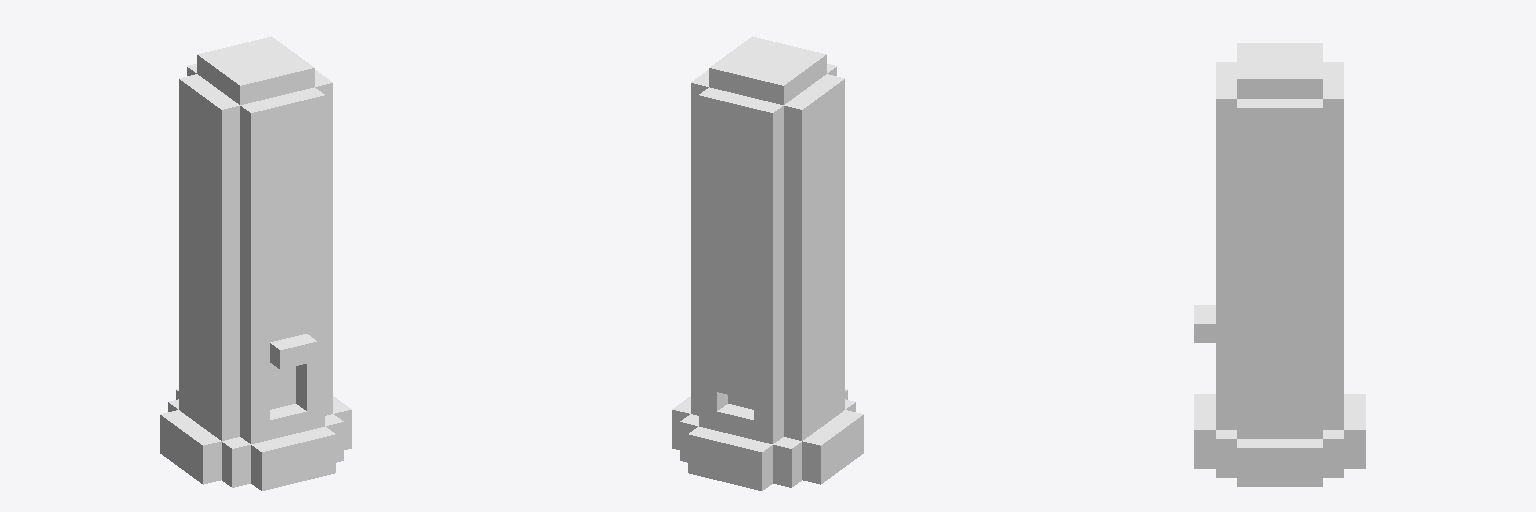
File: Flashlight.obj
3 renders of one model, left to right at view 1: azimuth 30°, elevation 25°; view 2: azimuth 150°, elevation 25°; view 3: azimuth 270°, elevation 25°, orthographic.
Parts seen in each view (by area): view 1: object 1; view 2: object 1; view 3: object 1.
Boxes of the visible parts, x1,y1,x2,y2 form: object 1: [160, 36, 351, 490]; object 1: [672, 36, 863, 490]; object 1: [1194, 43, 1365, 486].
Bounding box in the file's own units: 0.8 × 2 × 0.8.